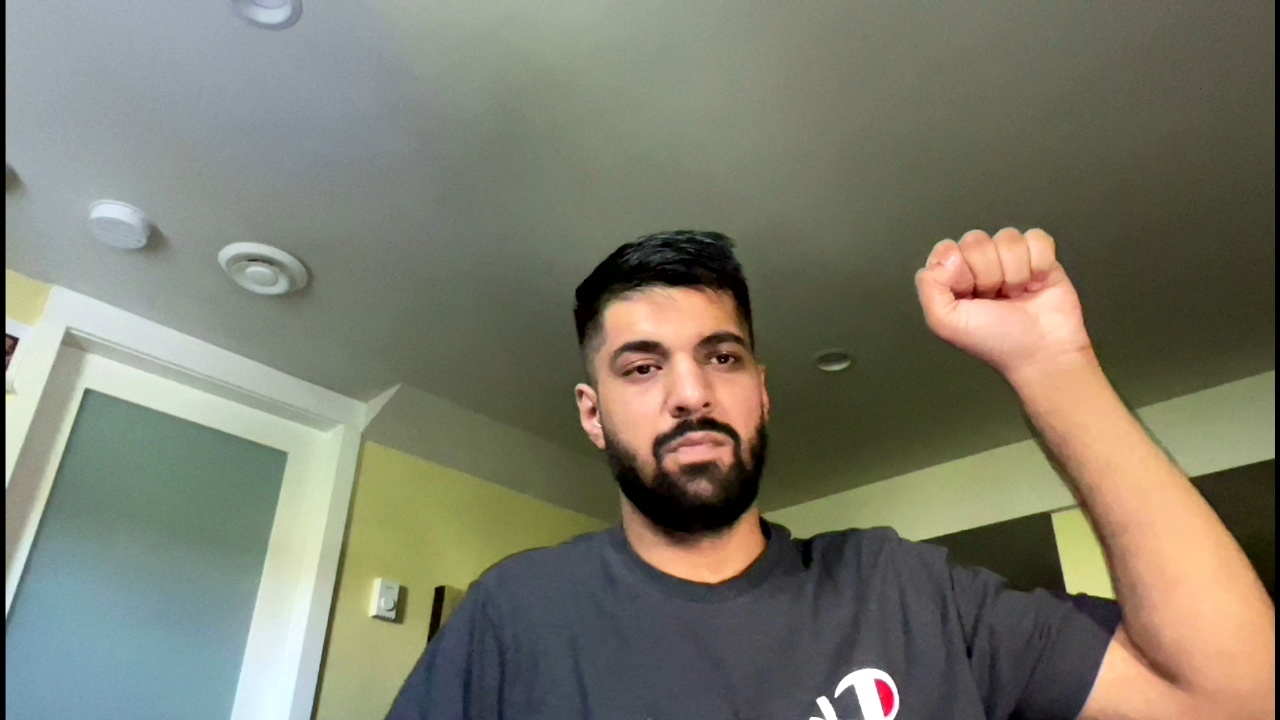No: (907, 218, 1124, 369)
